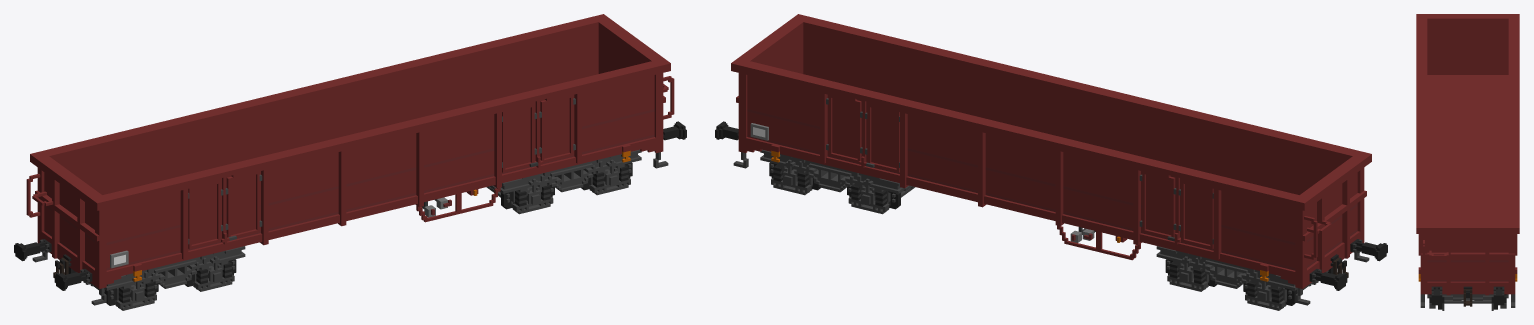
Rendered from eanos.obj.
3 renders of one model, left to right at view 1: azimuth 30°, elevation 25°; view 2: azimuth 150°, elevation 25°; view 3: azimuth 270°, elevation 25°, orthographic. The views are drawn at different scales.
Parts seen in each view (by area): view 1: FRAME, BOGEY_REAR, BOGEY_FRONT; view 2: FRAME, BOGEY_REAR, BOGEY_FRONT; view 3: FRAME, BOGEY_REAR.
Part boxes in pixels (bbox=[...]): FRAME: bbox=[14, 14, 686, 305]; BOGEY_REAR: bbox=[486, 149, 641, 214]; BOGEY_FRONT: bbox=[68, 246, 245, 310]; FRAME: bbox=[715, 14, 1387, 305]; BOGEY_REAR: bbox=[760, 149, 915, 214]; BOGEY_FRONT: bbox=[1156, 246, 1333, 310]; FRAME: bbox=[1416, 14, 1519, 307]; BOGEY_REAR: bbox=[1427, 294, 1508, 309].
Size of the model in its own units: 16 by 3.19 by 3.
1 material, 1 textured.
